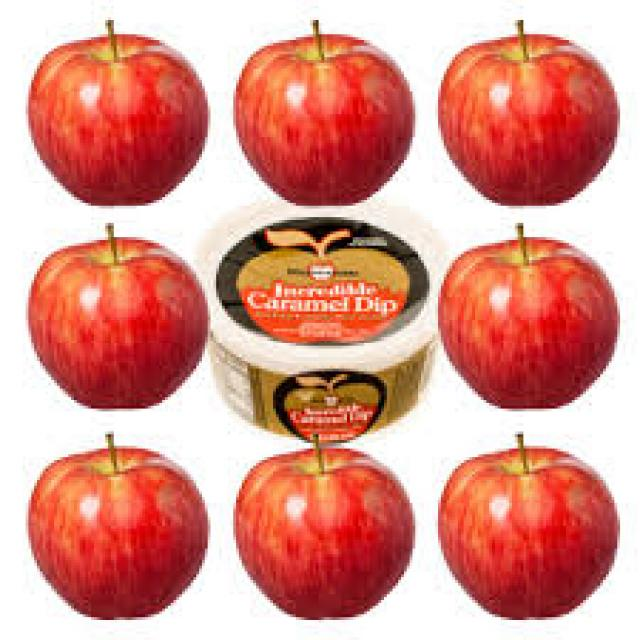apple: (229, 17, 426, 210), (433, 430, 625, 622), (230, 431, 417, 624), (27, 428, 210, 622), (21, 229, 210, 414), (439, 12, 621, 204), (430, 225, 624, 401), (25, 23, 212, 203)
